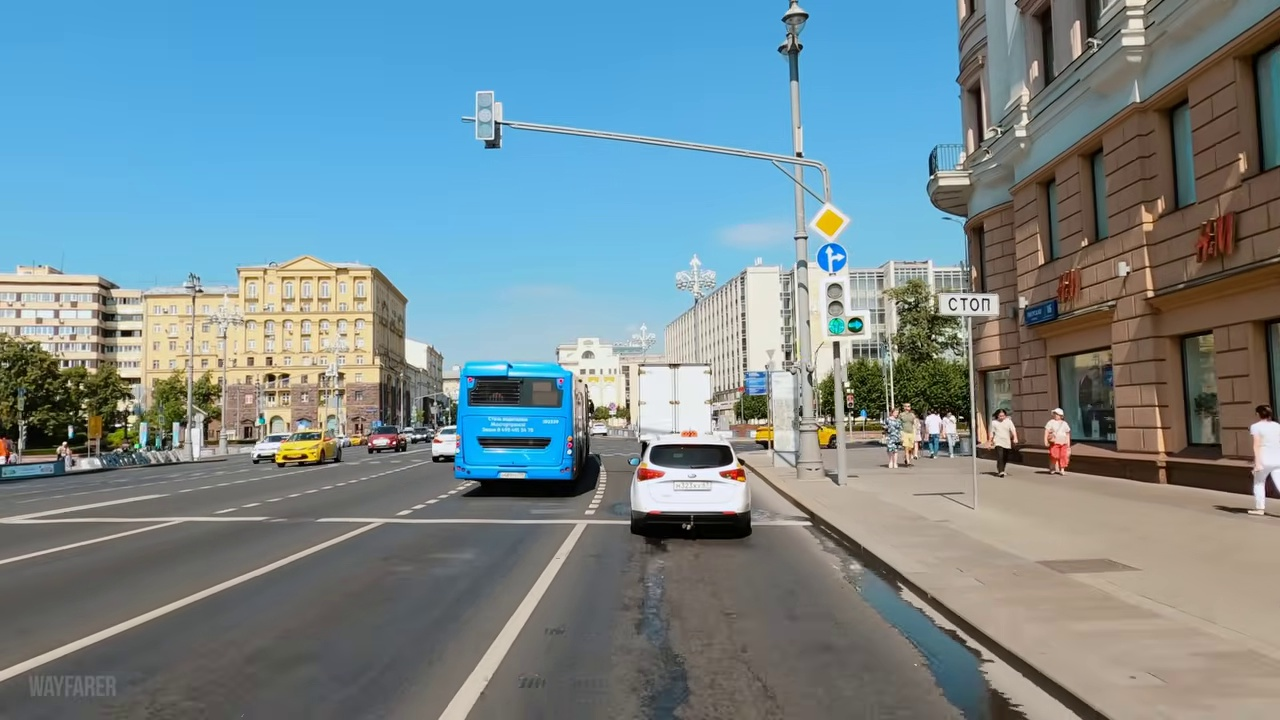acesa: (815, 208, 845, 235)
apagada: (779, 9, 809, 66)
